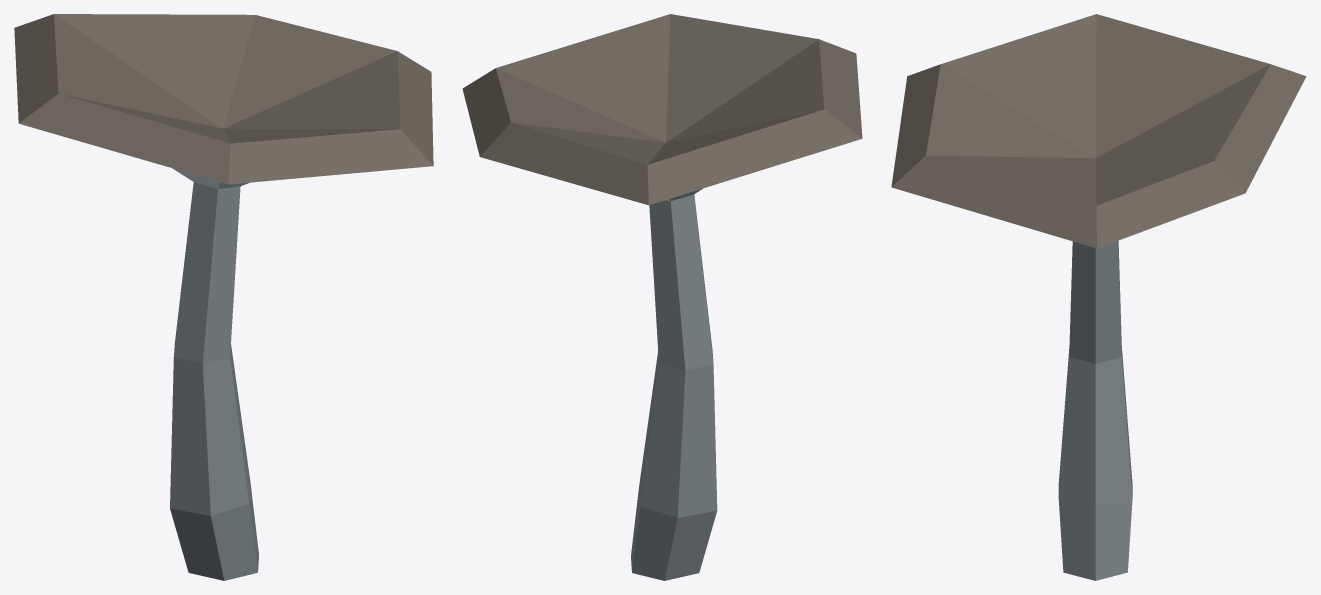
File: Mushroom-E03.fbx
The picture shows the model from 3 angles, left to right: view 1: azimuth 30°, elevation 25°; view 2: azimuth 150°, elevation 25°; view 3: azimuth 270°, elevation 25°; orthographic projection. The views are drawn at different scales.
Parts seen in each view (by area): view 1: Mushroom-E03; view 2: Mushroom-E03; view 3: Mushroom-E03.
Part boxes in pixels (<box>): Mushroom-E03: <box>14,14,433,580</box>; Mushroom-E03: <box>462,14,862,580</box>; Mushroom-E03: <box>891,14,1306,580</box>.
Bounding box in the file's own units: 44.97 × 53.14 × 42.02.
